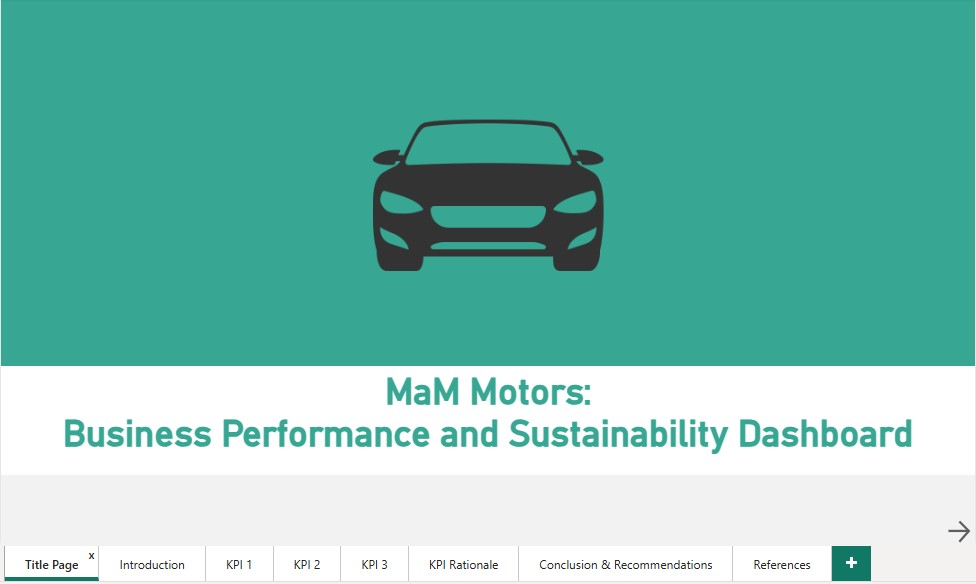

The page's visual inventory and layout, read from the dashboard file:
{"tool":"powerbi","page":{"name":"Title Page","canvas":[1280,720],"ordinal":0},"visuals":[{"type":"shape","box":[0,0,1279.7,483.5],"z":0},{"type":"textbox","box":[0,483.1,1280,143.1],"z":1000},{"type":"image","box":[488.6,49.5,302.8,408.8],"z":2000},{"type":"actionButton","box":[1238.7,681.3,41.3,38.5],"z":3000}]}

Visuals, with their boxes on the page's 1280x720 design canvas (x1, y1, x2, y2). These are canvas units, not pixel positions in the 976x584 screenshot, which may show the page scaled, cropped or inside an application window:
shape: [left=0, top=0, right=1280, bottom=484]
textbox: [left=0, top=483, right=1280, bottom=626]
image: [left=489, top=50, right=791, bottom=458]
actionButton: [left=1239, top=681, right=1280, bottom=720]
